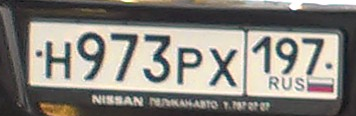character: (106, 32, 141, 86), (75, 30, 108, 84), (141, 33, 173, 88), (207, 46, 241, 91), (42, 39, 74, 80), (175, 45, 204, 87), (272, 34, 300, 76), (249, 33, 274, 77), (300, 34, 326, 76)
